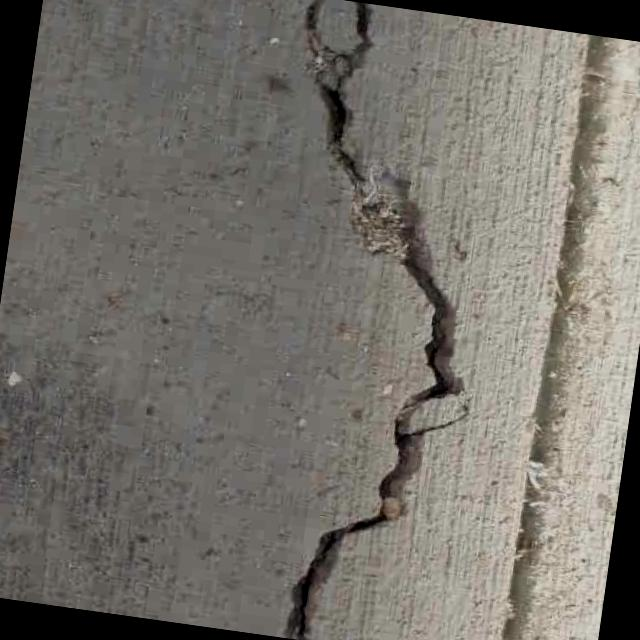crack: (201, 0, 525, 640)
